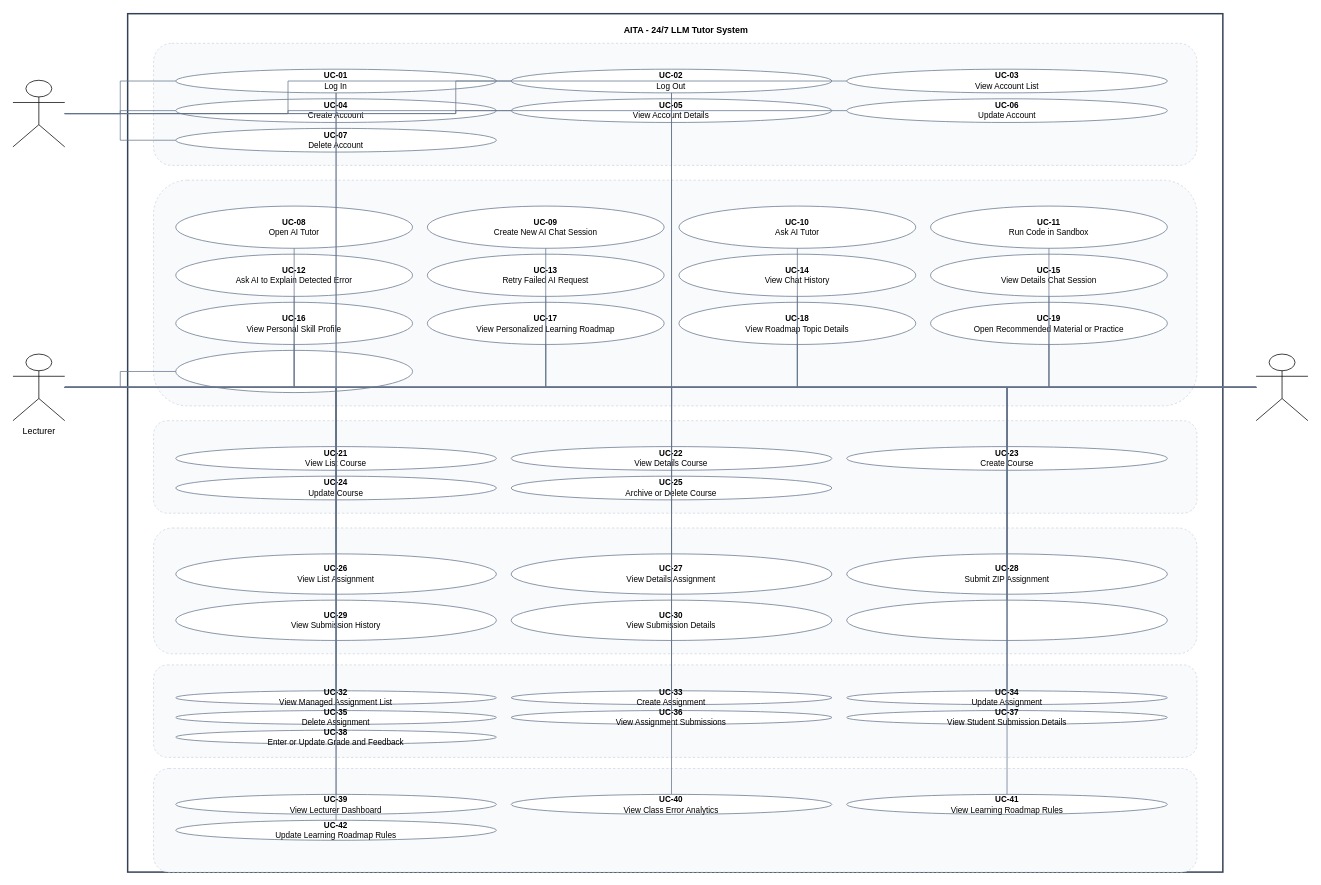
Some shapes in this 1321 by 885 pixel diagram are drawn without their labels. Here are the shapes that lost their labels. From the top down, the box of each, then its label:
(12, 80, 65, 147): Admin
(153, 43, 1197, 165): Authentication & Account Management
(153, 179, 1197, 406): 24/7 AI Tutor & Personalization
(175, 350, 413, 393): UC-20 View Student Learning Roadmap
(1255, 353, 1308, 421): Student
(153, 420, 1197, 513): Course Management
(153, 527, 1197, 654): Student Assignment & Submission
(846, 599, 1167, 640): UC-31 View Grade and Feedback
(153, 664, 1197, 757): Lecturer Assignment Management
(153, 768, 1197, 872): Lecturer Dashboard & Analytics
